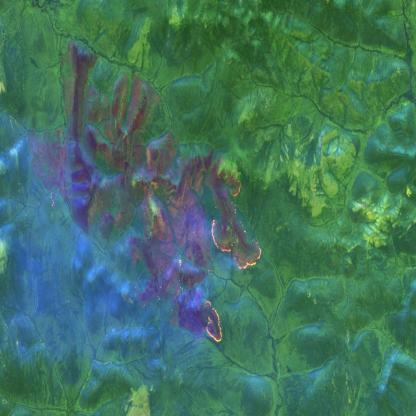fire: (209, 164, 265, 274), (201, 297, 228, 352)
